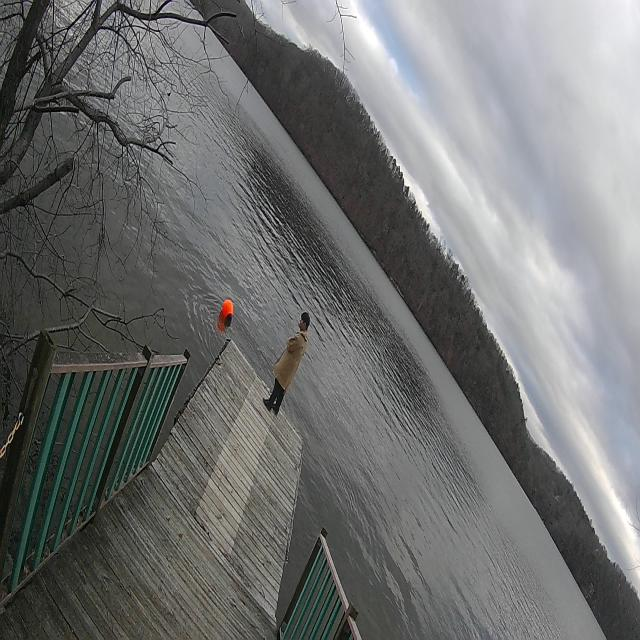Buoy: (220, 295, 235, 327)
